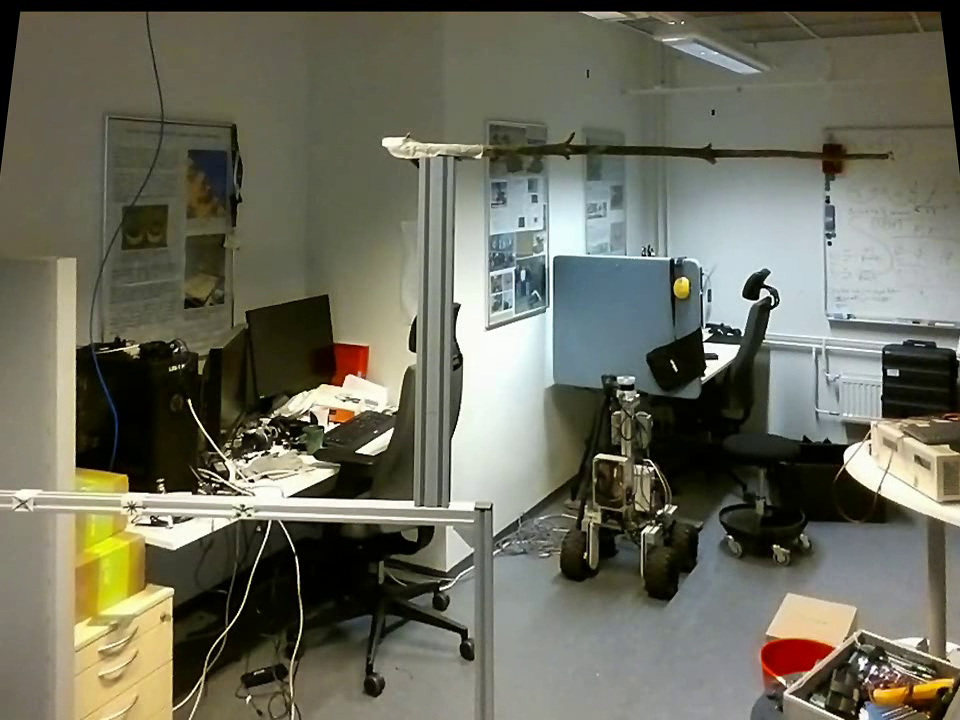aluminum_frame: (1, 482, 474, 522), (413, 156, 455, 506), (471, 495, 498, 718), (821, 303, 958, 337), (818, 122, 830, 317), (819, 120, 956, 133)
branch: (487, 125, 883, 171)
